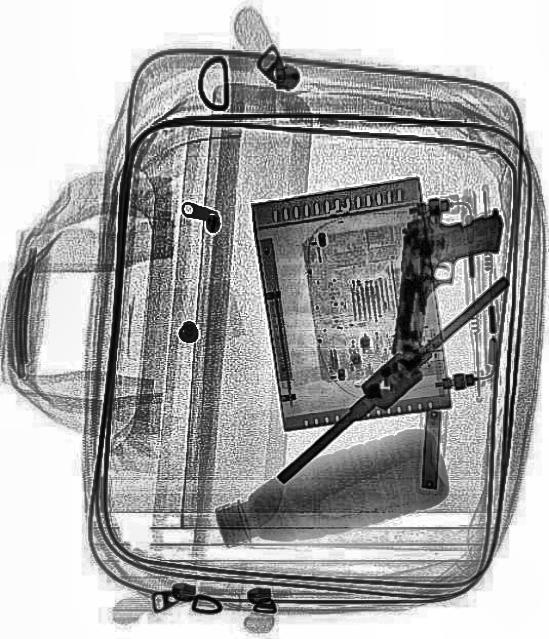Gun: (388, 190, 503, 366)
